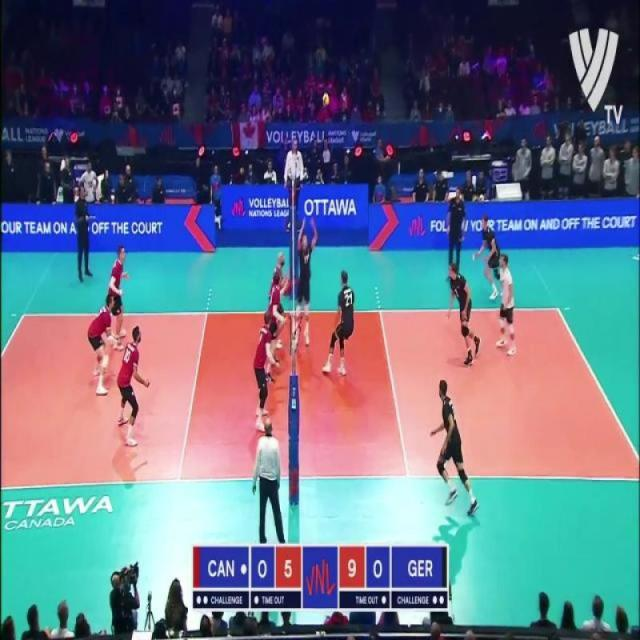volleyball: (322, 90, 330, 109)
